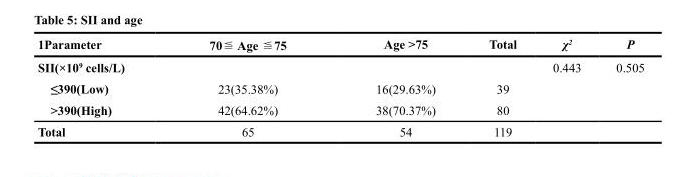table: (37, 36, 643, 138)
table column: (166, 36, 330, 138), (330, 36, 461, 138), (37, 36, 166, 138), (461, 36, 534, 138), (534, 36, 597, 138), (597, 36, 643, 138)
table column header: (37, 36, 643, 55)
table row: (37, 55, 643, 77), (37, 77, 643, 99), (37, 99, 643, 120), (37, 36, 643, 55), (37, 120, 643, 138)
